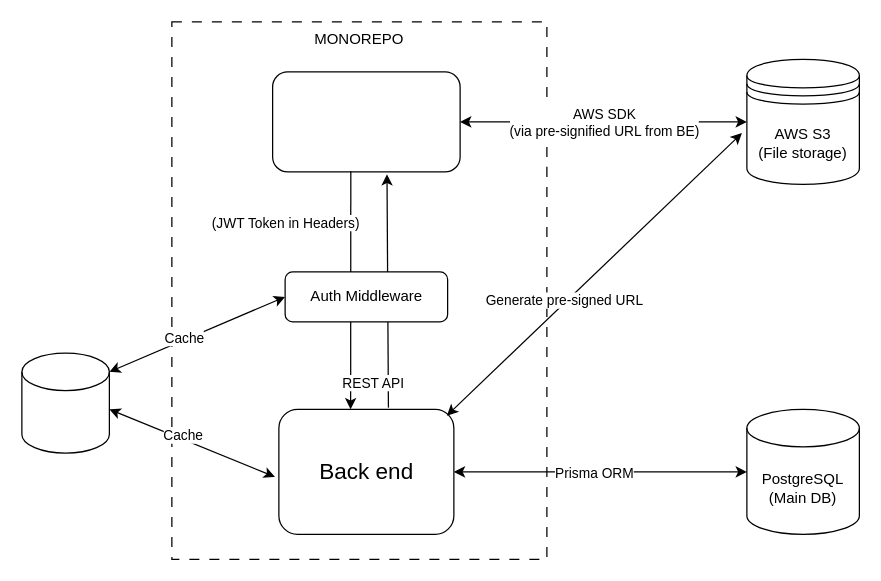
Some shapes in this 881 by 581 pixel diagram are drawn without their labels. The shapes that lost their labels are listed below. From the top down, each one's centre as x and y in pixels, then its label:
At (365,121): "Front end".
At (65,402): "Redis (cache)".
